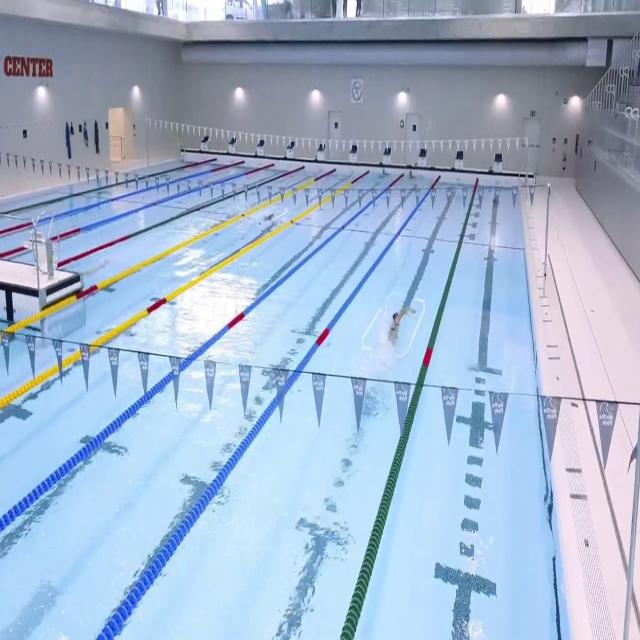Swimming: (387, 306, 418, 348)
